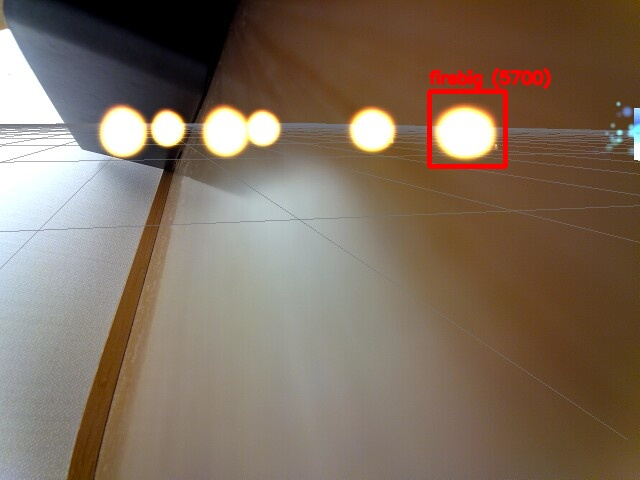firebig: (429, 91, 505, 166)
